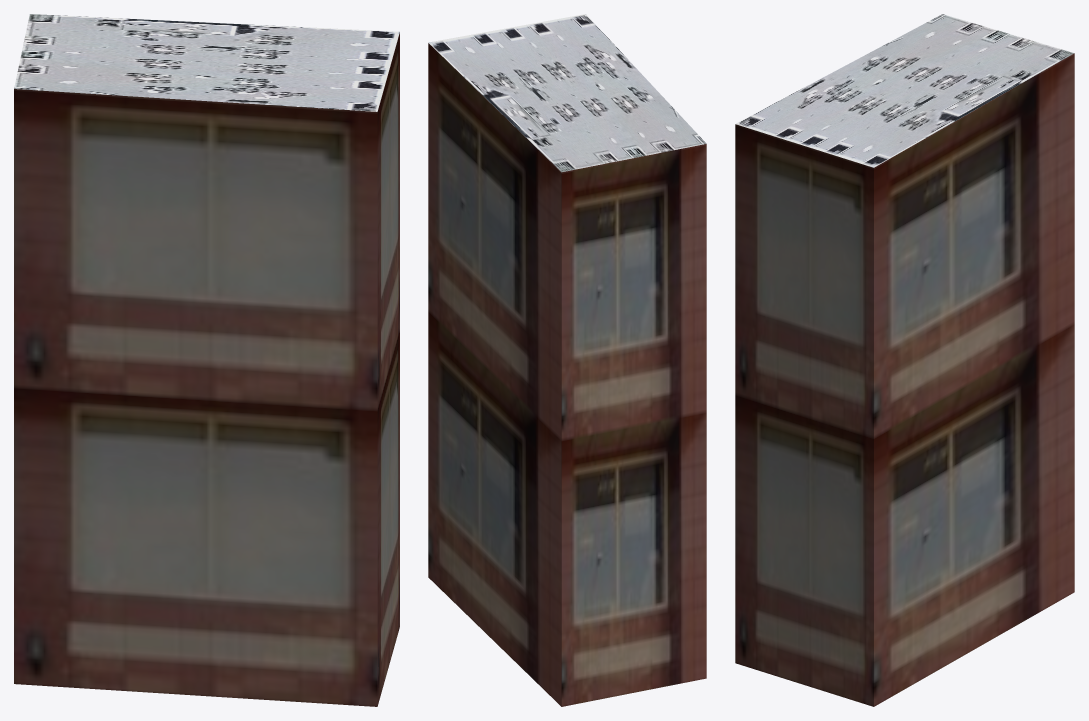
File: ResTex__2398.fbx
The picture shows the model from 3 angles, left to right: view 1: azimuth 30°, elevation 25°; view 2: azimuth 150°, elevation 25°; view 3: azimuth 270°, elevation 25°; orthographic projection. The views are drawn at different scales.
Parts seen in each view (by area): view 1: CityEngineMaterial_13_m, CityEngineMaterial_4_m; view 2: CityEngineMaterial_13_m, CityEngineMaterial_4_m; view 3: CityEngineMaterial_13_m, CityEngineMaterial_4_m.
Part boxes in pixels (<box>): CityEngineMaterial_13_m: <box>14,32,399,706</box>; CityEngineMaterial_4_m: <box>14,14,399,111</box>; CityEngineMaterial_13_m: <box>428,43,706,706</box>; CityEngineMaterial_4_m: <box>428,14,706,172</box>; CityEngineMaterial_13_m: <box>735,53,1074,706</box>; CityEngineMaterial_4_m: <box>735,14,1073,167</box>.
Size of the model in its own units: 3.67 by 6 by 3.42.
Materials: 2 (2 with a texture image).
